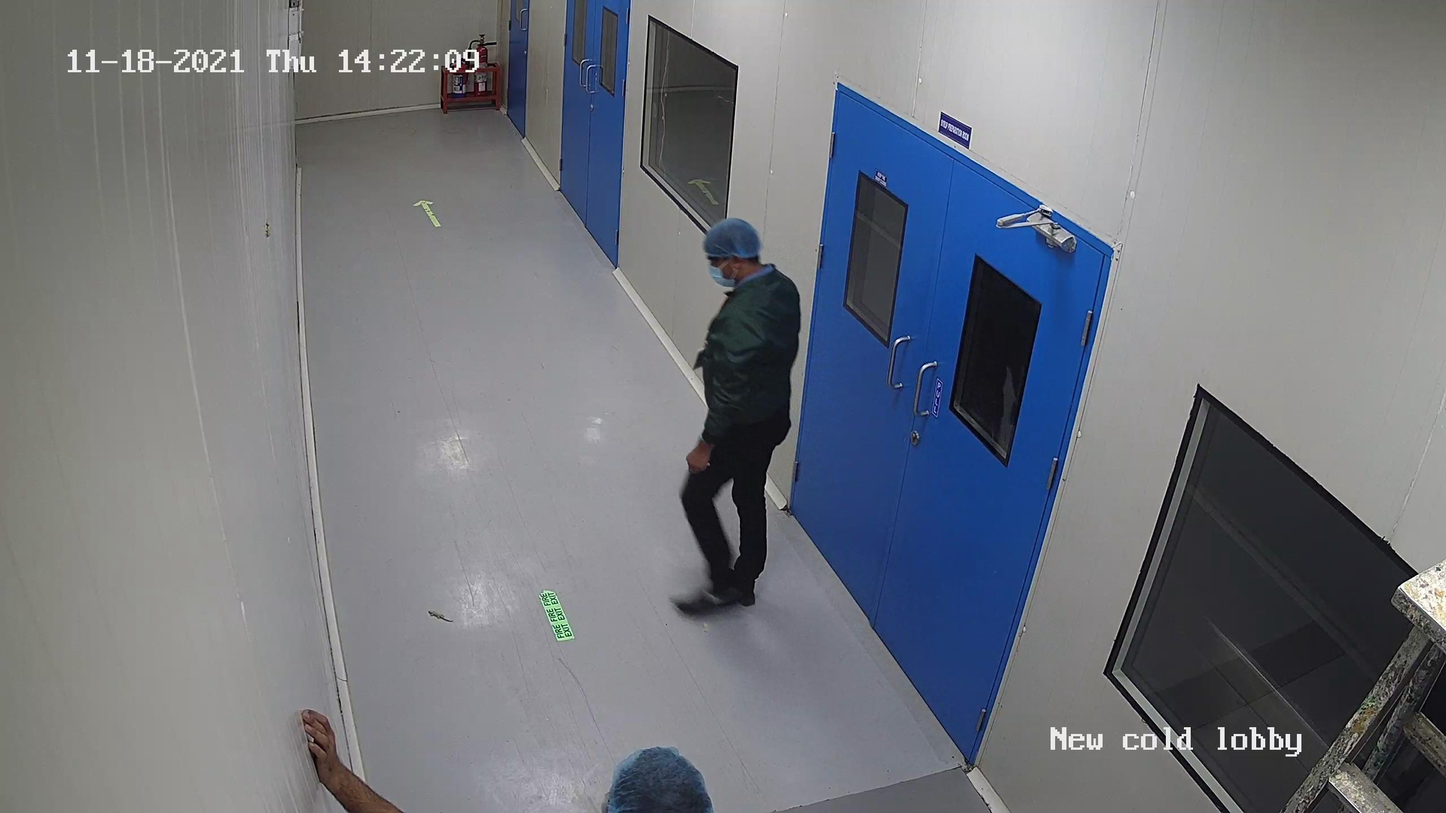lizard: (425, 604, 455, 626)
